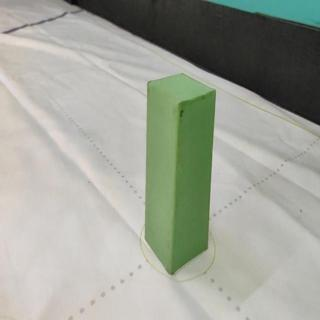greenbox: (145, 71, 216, 276)
